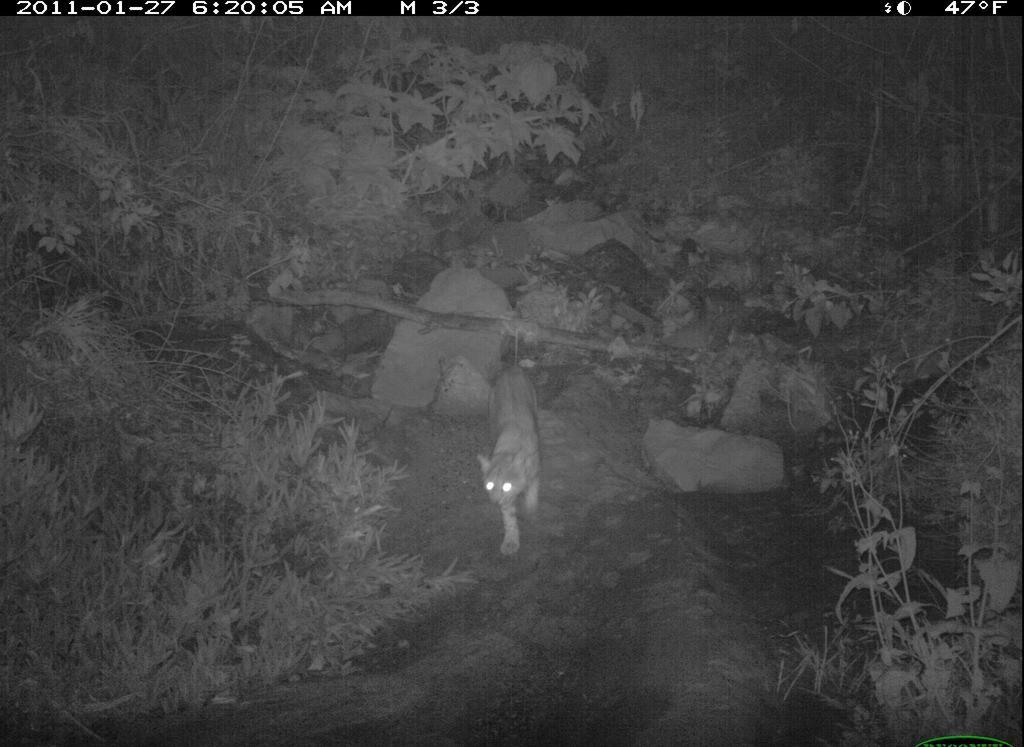bobcat: (475, 362, 547, 562)
